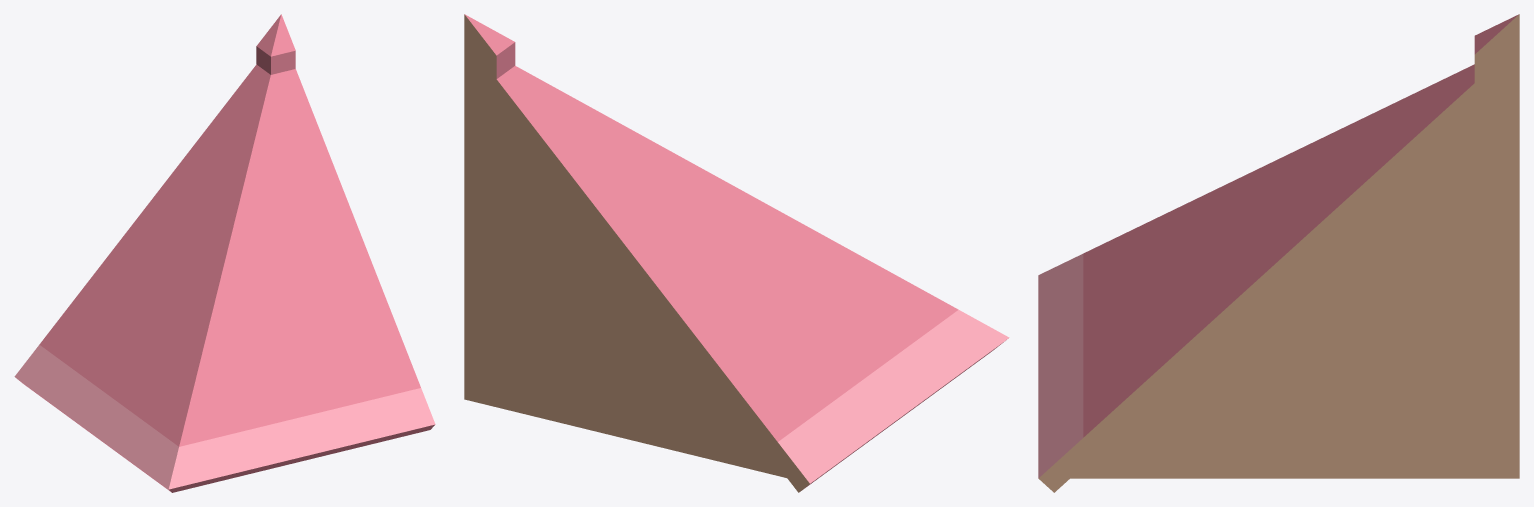
The picture shows the model from 3 angles, left to right: view 1: azimuth 30°, elevation 25°; view 2: azimuth 150°, elevation 25°; view 3: azimuth 270°, elevation 25°; orthographic projection. The views are drawn at different scales.
Visible parts, largest first — view 1: roofHighCorner; view 2: roofHighCorner; view 3: roofHighCorner.
Boxes of the visible parts, box(x1,y1,x2,y2) form: roofHighCorner: box(14, 14, 435, 492); roofHighCorner: box(464, 14, 1009, 492); roofHighCorner: box(1038, 14, 1519, 492).
Bounding box in the file's own units: 1.07 × 1.18 × 1.07.
